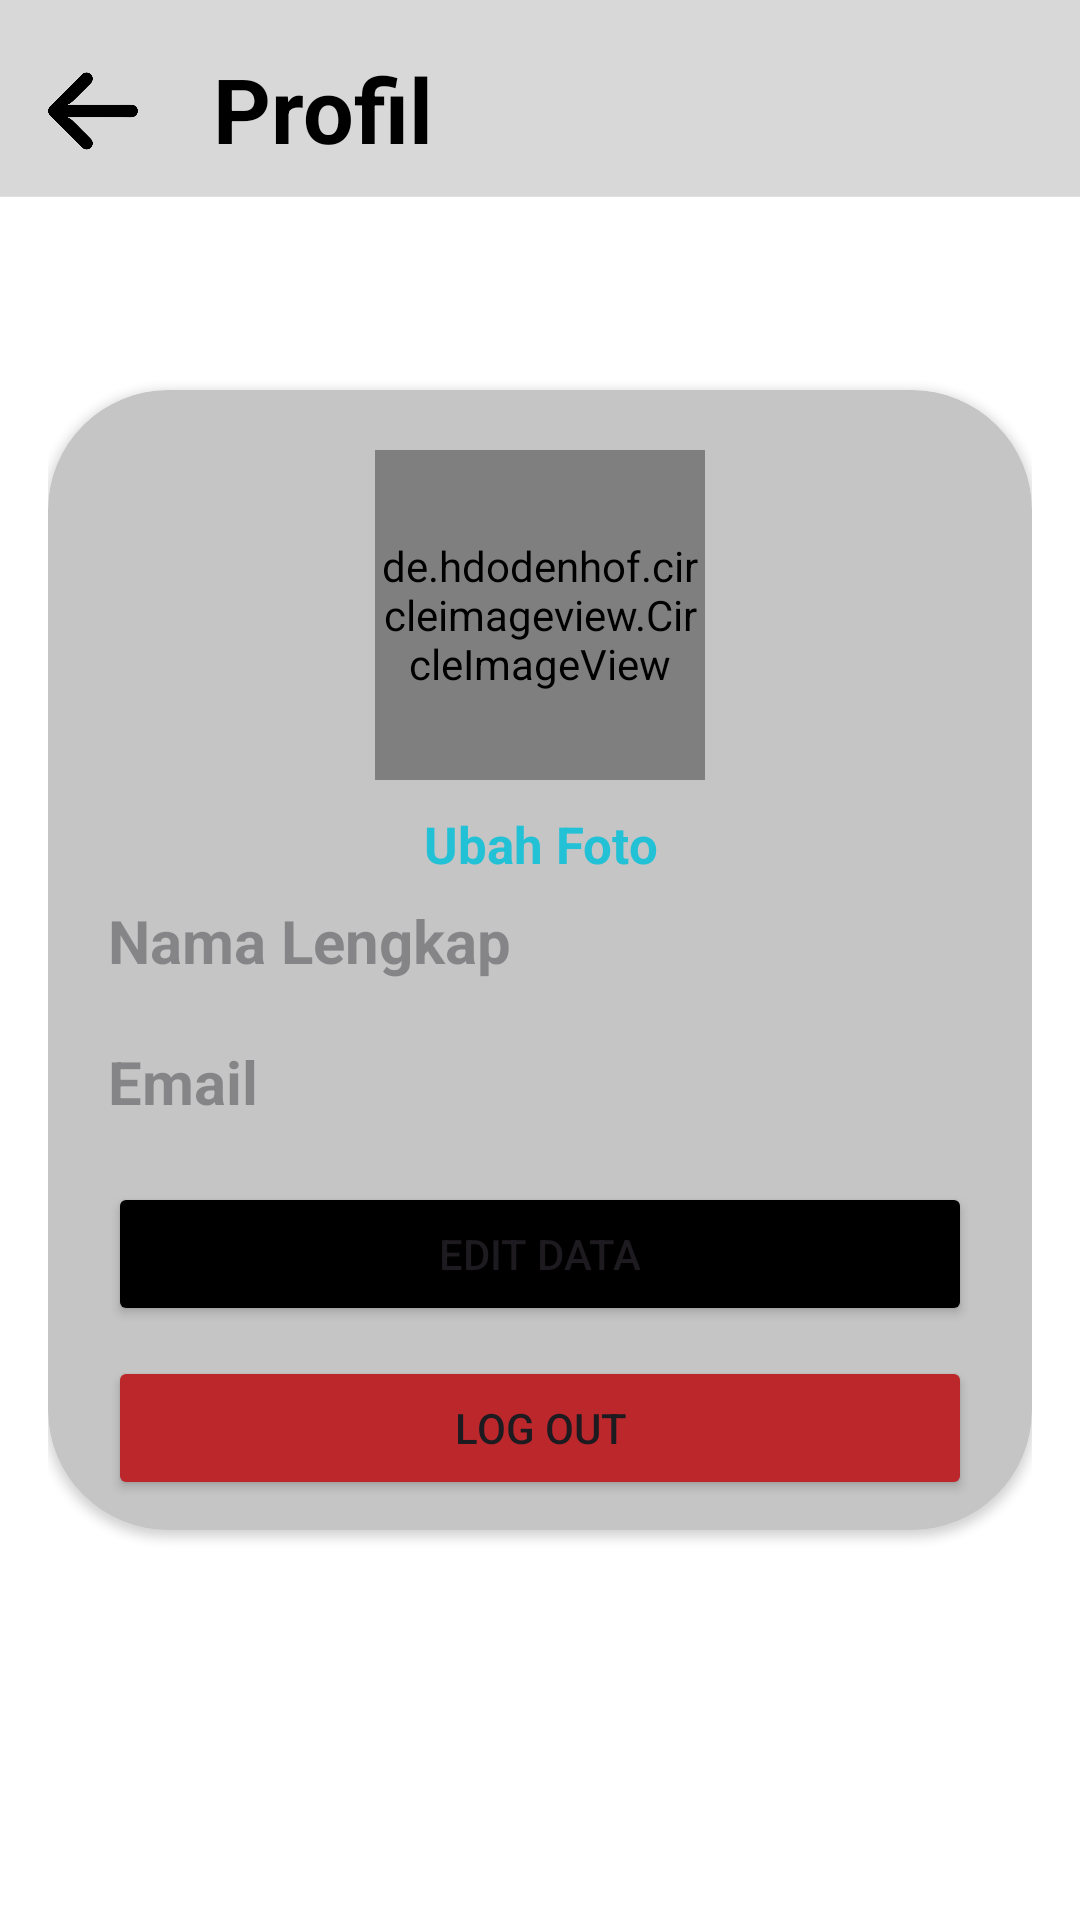

Screen size 1080px x 1920px. Icon name, then its box in pixels as {"x1": x1, "y1": y1, "x2": x2, "y2": y2}:
back: {"x1": 48, "y1": 72, "x2": 138, "y2": 150}
